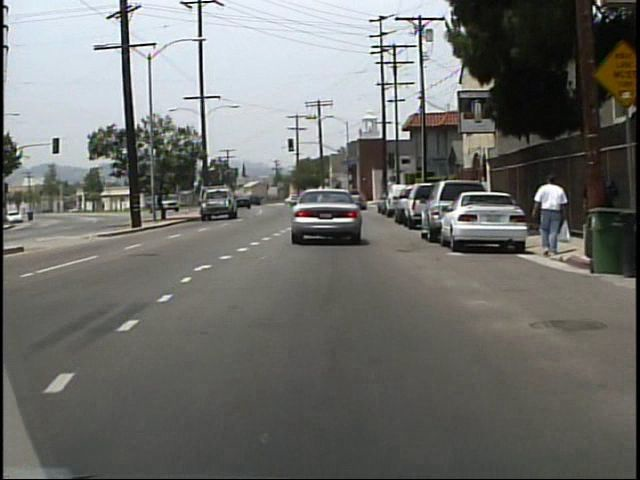person: (529, 176, 567, 261)
